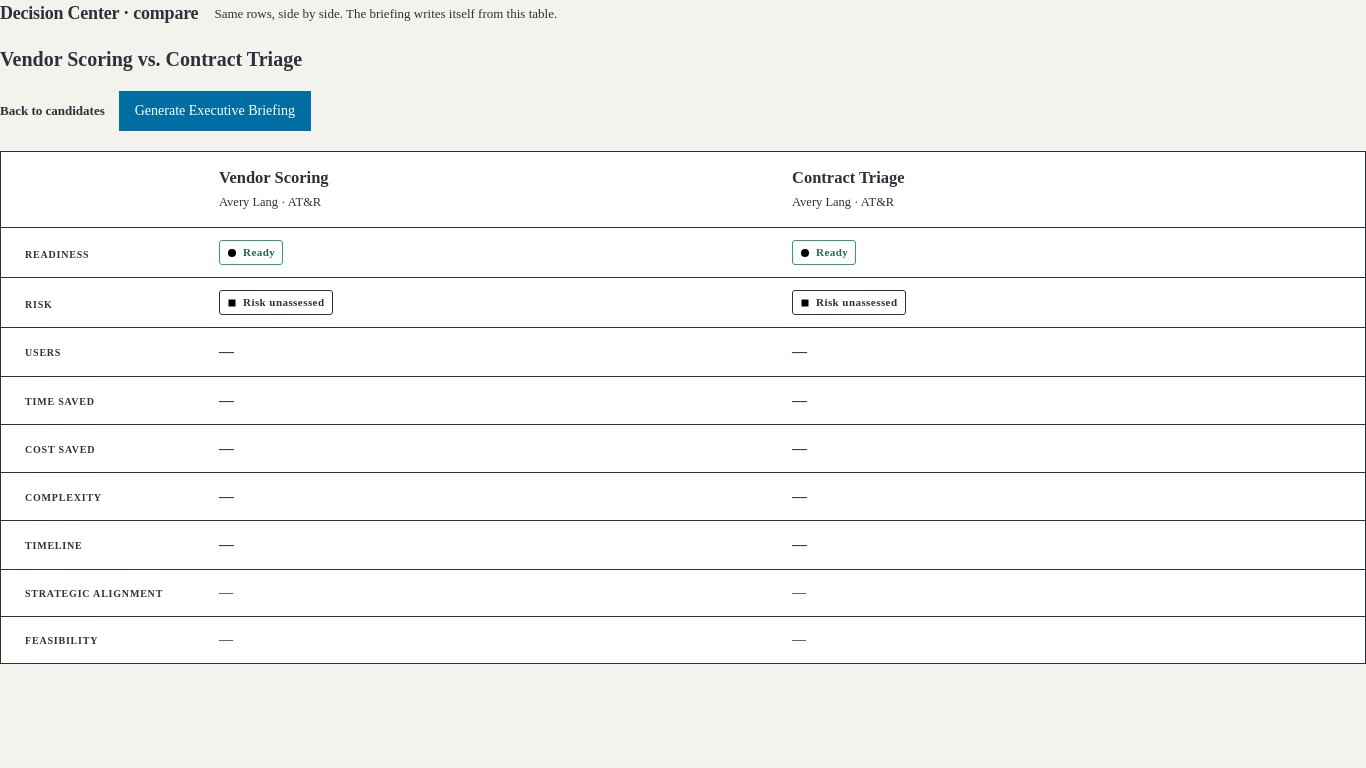
it: the Decision Center briefing in the report › Add puts the briefing section on /report in the same session; Remove takes it away
Later steps or results of the test are not shown.
Click the button "Generate Executive Briefing".
click(215, 111)  # box [119, 91, 311, 131]
(page scrolled)
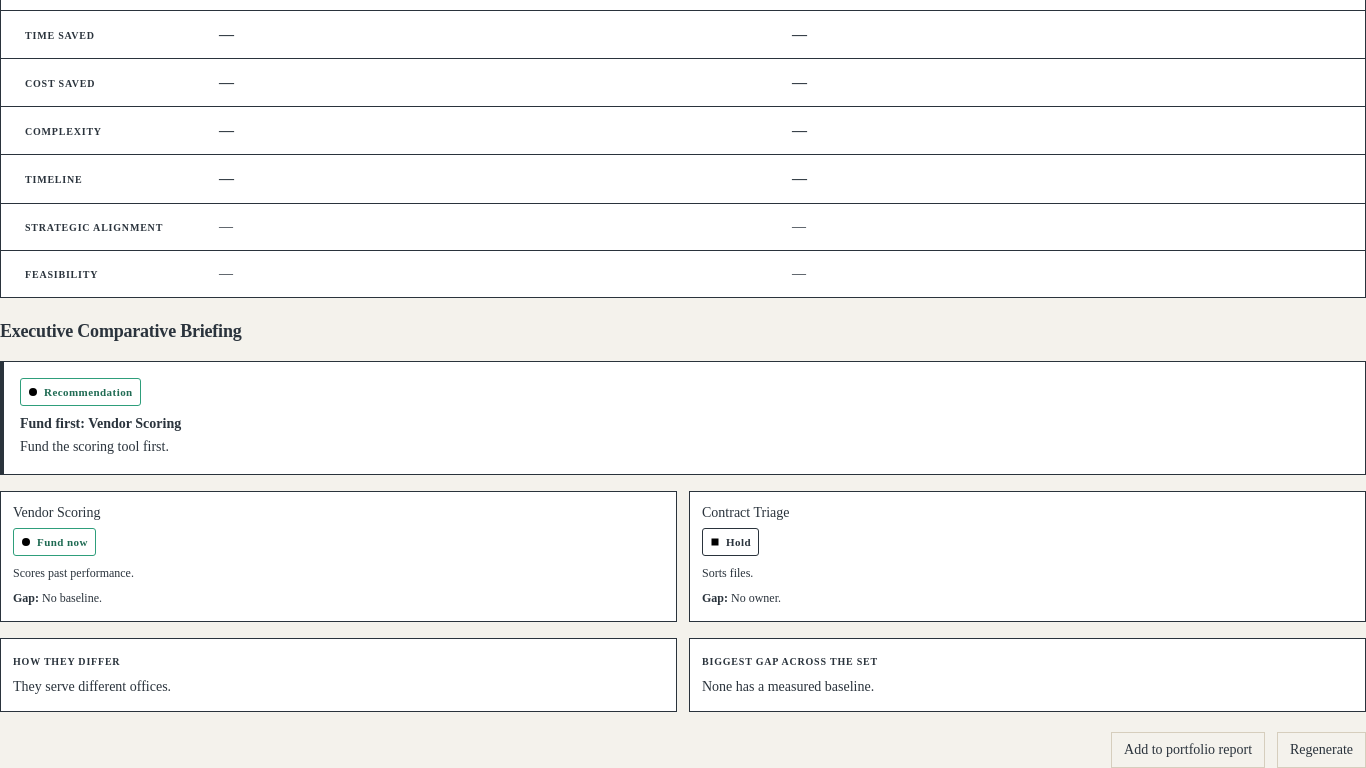
Click the button "Add to portfolio report".
click(1188, 750)  # box [1111, 732, 1265, 767]
(page scrolled)
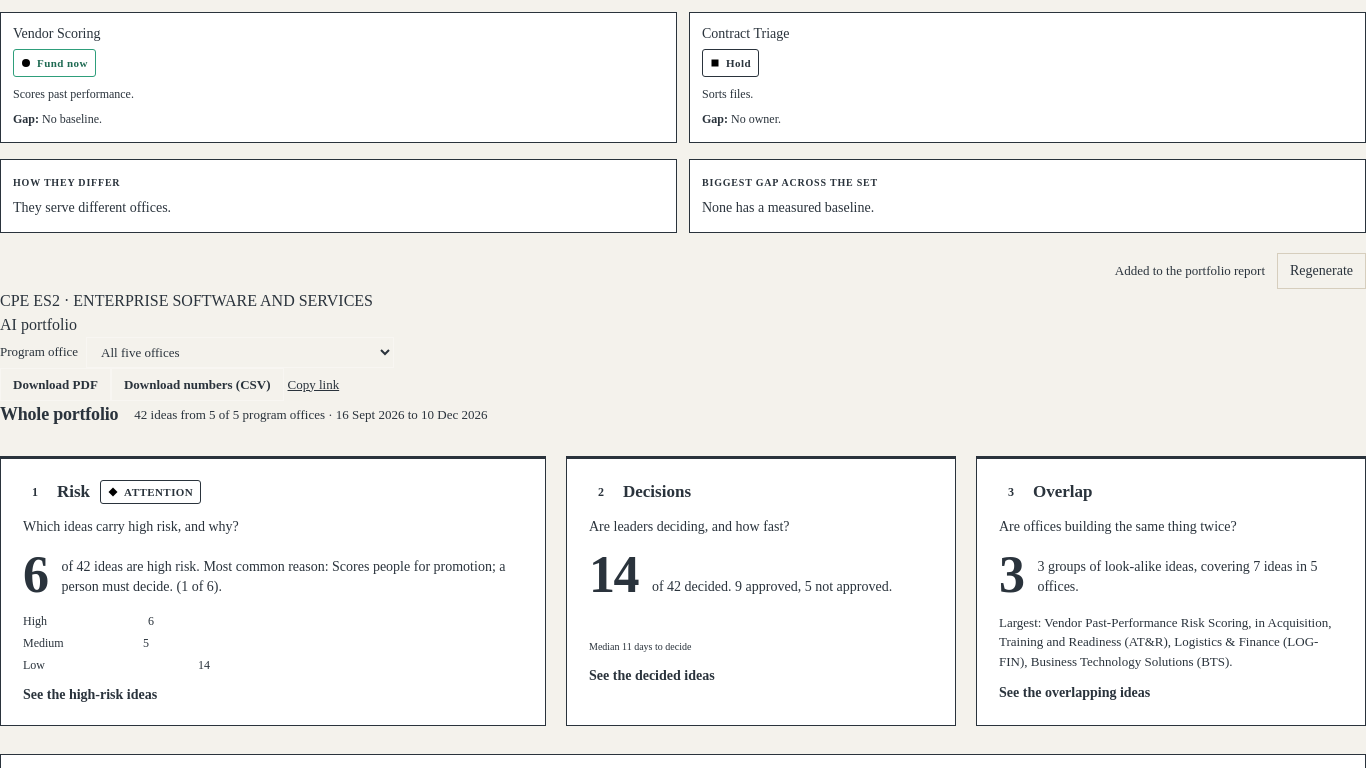
Expected: the text "Added to the portfolio report" is shown, [1115, 261, 1265, 281]
